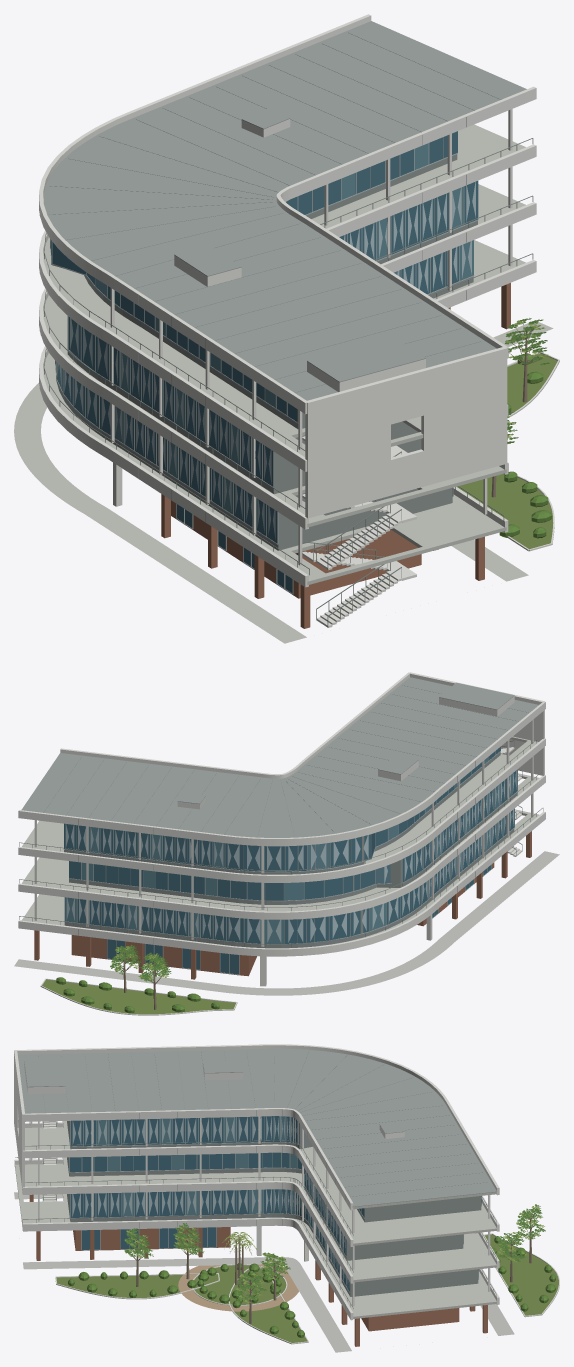
The model's file is activity-lod1.glb.
The picture shows the model from 3 angles, top to bottom: view 1: azimuth 30°, elevation 25°; view 2: azimuth 150°, elevation 25°; view 3: azimuth 270°, elevation 25°; orthographic projection. The views are drawn at different scales.
Parts seen in each view (by area): view 1: roof membrane | roof.001, continuous curved bands | white warm ceramic.001, exterior gallery floors | pale paving.001, upper end wall with square opening | white warm ceramic.001, upper curtain walls | blue glazing.001, enclosed floor shadow | reveal shadow.001, site perimeter paving | pale paving.001, elongated frosted glass motifs | frosted diamonds.001, brick ground rooms and piers | brick.001, window frames | window metal.001, connected planted lawns | lawn.001, upper curtain walls | blue glazing light.001 (+6 smaller); view 2: roof membrane | roof.001, continuous curved bands | white warm ceramic.001, upper curtain walls | blue glazing.001, exterior gallery floors | pale paving.001, elongated frosted glass motifs | frosted diamonds.001, enclosed floor shadow | reveal shadow.001, site perimeter paving | pale paving.001, upper curtain walls | blue glazing light.001, window frames | window metal.001, brick ground rooms and piers | brick.001, connected planted lawns | lawn.001, gallery railings | rail.001 (+6 smaller); view 3: roof membrane | roof.001, continuous curved bands | white warm ceramic.001, exterior gallery floors | pale paving.001, upper curtain walls | blue glazing.001, enclosed floor shadow | reveal shadow.001, connected planted lawns | lawn.001, elongated frosted glass motifs | frosted diamonds.001, site perimeter paving | pale paving.001, brick ground rooms and piers | brick.001, window frames | window metal.001, upper curtain walls | blue glazing light.001, layered leaf canopy | leaf shadow.001 (+9 smaller).
Part boxes in pixels (x1,y1,x2,y2): roof membrane | roof.001: (43,21,526,400); continuous curved bands | white warm ceramic.001: (39,14,536,587); exterior gallery floors | pale paving.001: (43,124,525,585); upper end wall with square opening | white warm ceramic.001: (305,346,507,518); upper curtain walls | blue glazing.001: (50,131,478,543); enclosed floor shadow | reveal shadow.001: (51,154,477,550); site perimeter paving | pale paving.001: (14,321,553,643); elongated frosted glass motifs | frosted diamonds.001: (50,182,475,539); brick ground rooms and piers | brick.001: (161,283,510,628); window frames | window metal.001: (50,137,478,594); connected planted lawns | lawn.001: (456,353,557,549); upper curtain walls | blue glazing light.001: (57,143,473,514); roof membrane | roof.001: (21,677,538,837); continuous curved bands | white warm ceramic.001: (18,672,545,986); upper curtain walls | blue glazing.001: (64,747,517,943); exterior gallery floors | pale paving.001: (21,736,539,947); elongated frosted glass motifs | frosted diamonds.001: (65,770,516,942); enclosed floor shadow | reveal shadow.001: (64,752,517,948); site perimeter paving | pale paving.001: (14,851,559,995); upper curtain walls | blue glazing light.001: (64,756,499,943); window frames | window metal.001: (63,746,517,974); brick ground rooms and piers | brick.001: (34,831,531,979); connected planted lawns | lawn.001: (42,979,235,1014); gallery railings | rail.001: (19,735,543,947); roof membrane | roof.001: (17,1048,496,1207); continuous curved bands | white warm ceramic.001: (14,1044,499,1320); exterior gallery floors | pale paving.001: (15,1118,496,1318); upper curtain walls | blue glazing.001: (69,1116,481,1286); enclosed floor shadow | reveal shadow.001: (67,1121,481,1296); connected planted lawns | lawn.001: (56,1234,558,1342); elongated frosted glass motifs | frosted diamonds.001: (72,1116,349,1287); site perimeter paving | pale paving.001: (14,1192,514,1352); brick ground rooms and piers | brick.001: (29,1194,487,1346); window frames | window metal.001: (69,1116,481,1292); upper curtain walls | blue glazing light.001: (96,1116,478,1291); layered leaf canopy | leaf shadow.001: (124,1204,545,1301).
Bounding box in the file's own units: 51.09 × 21.97 × 70.37.
